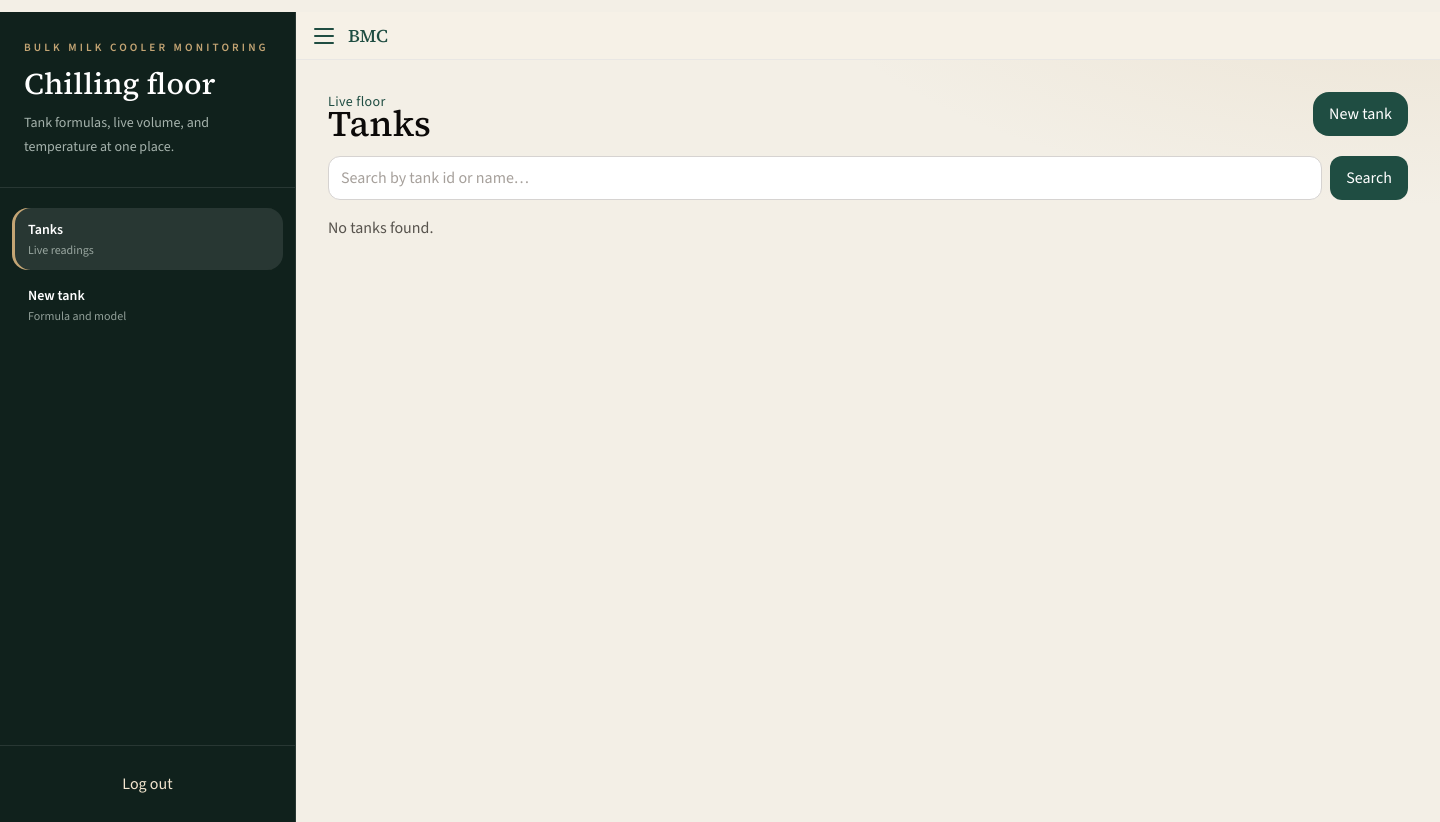
App auth › clears the token and returns to login on logout
Click the button "Log out" at {"x": 148, "y": 784}, box x1=16 y1=762 x2=279 y2=806
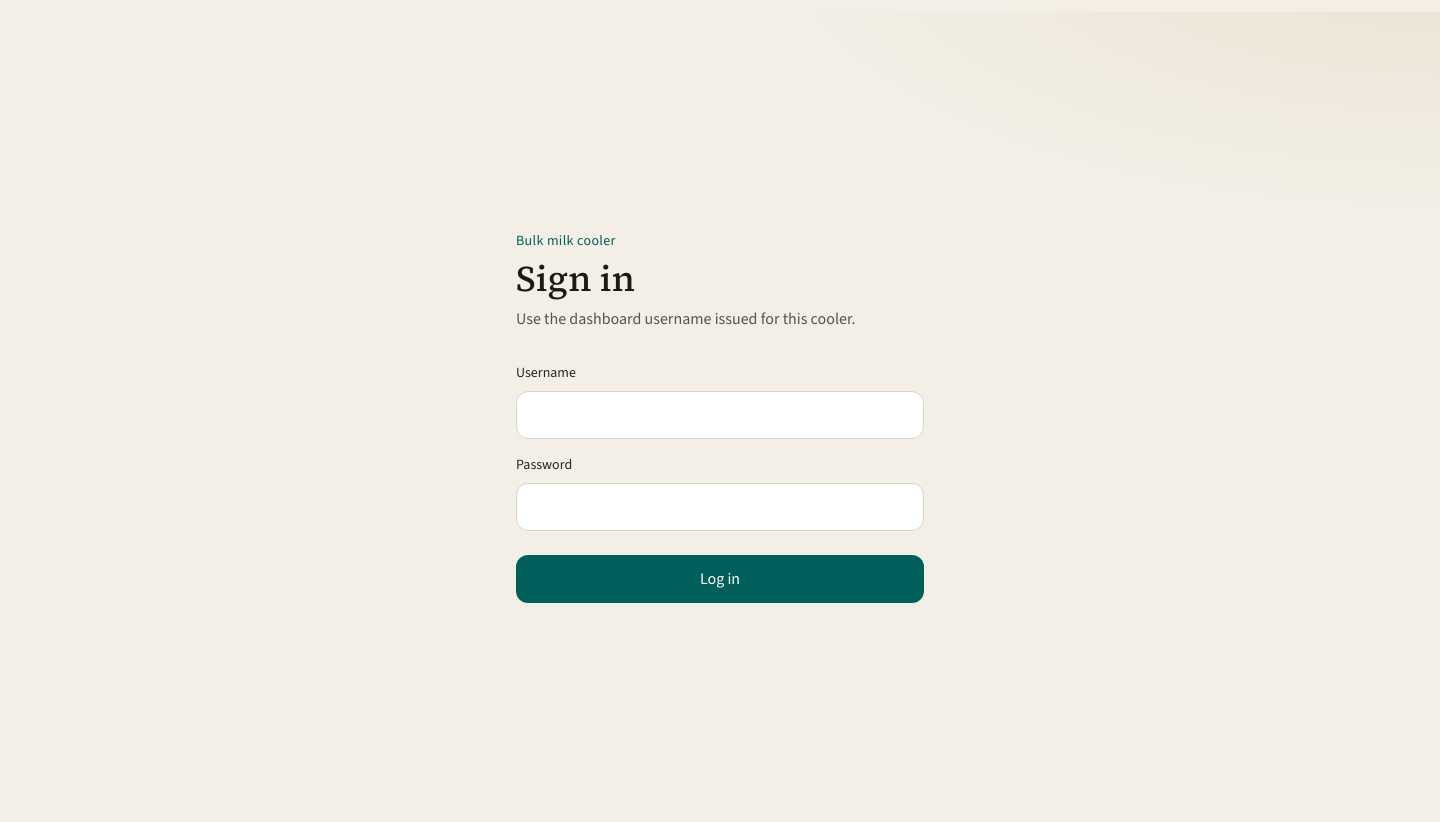
Expected: the field labelled "Username" is shown, x1=516 y1=391 x2=924 y2=439
